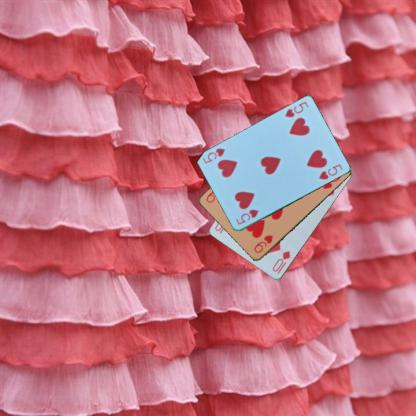10d: (270, 249, 292, 274)
5h: (282, 99, 310, 119), (233, 207, 259, 226)
9h: (252, 232, 274, 255)
